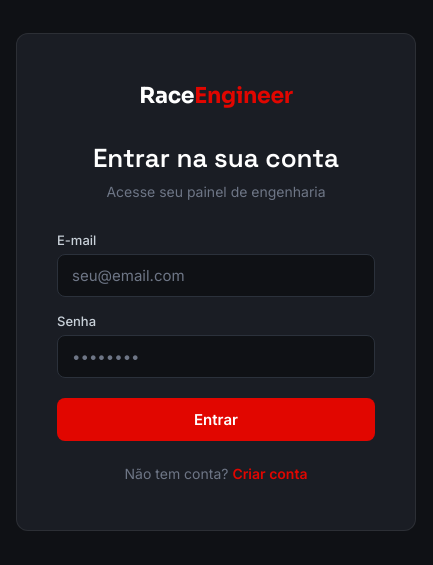
Test: LoginPage › error handling › displays the error message returned by the API on login failure
Type "wrong@example.com" into the field labelled "E-mail". click: (216, 276)
box: left=57, top=254, right=375, bottom=297
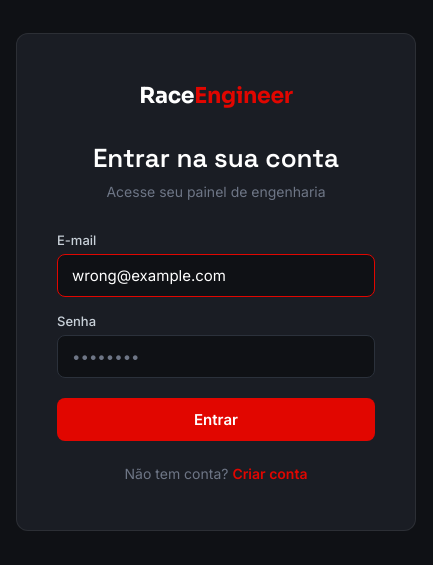
Type "wrongpass" into the password field labelled "Senha". click: (216, 356)
box: left=57, top=335, right=375, bottom=378
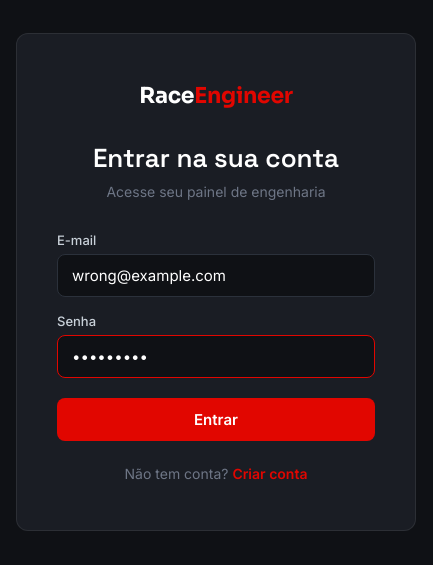
Click the button "Entrar". click: click(216, 420)
box: left=57, top=398, right=375, bottom=441
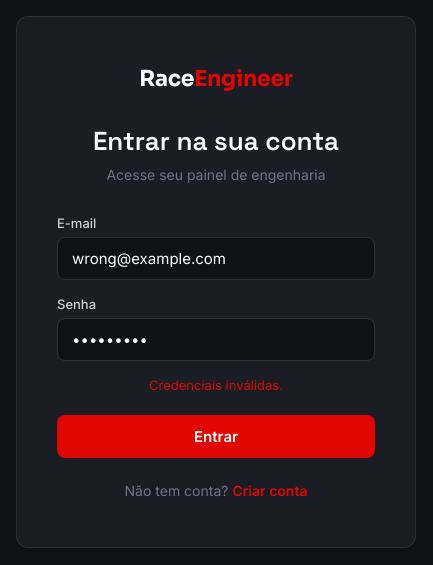
Now the message reads "Credenciais inválidas.", box left=149, top=377, right=283, bottom=393
